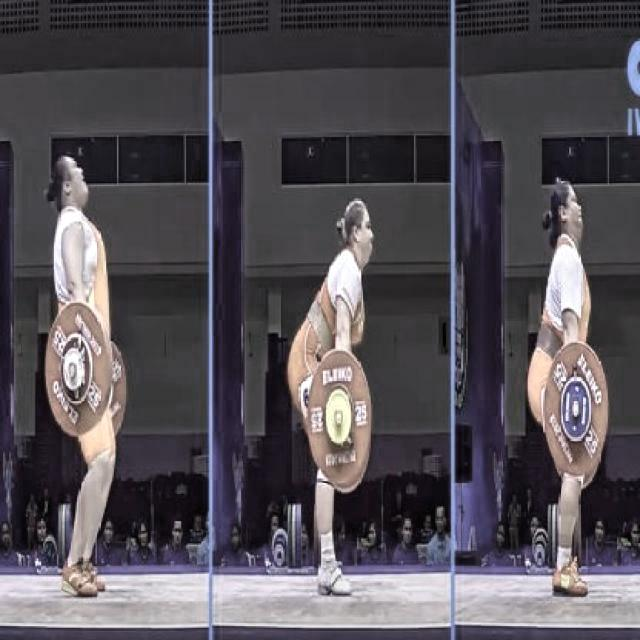barbell: (40, 286, 136, 444), (297, 344, 385, 500), (535, 332, 615, 490)
